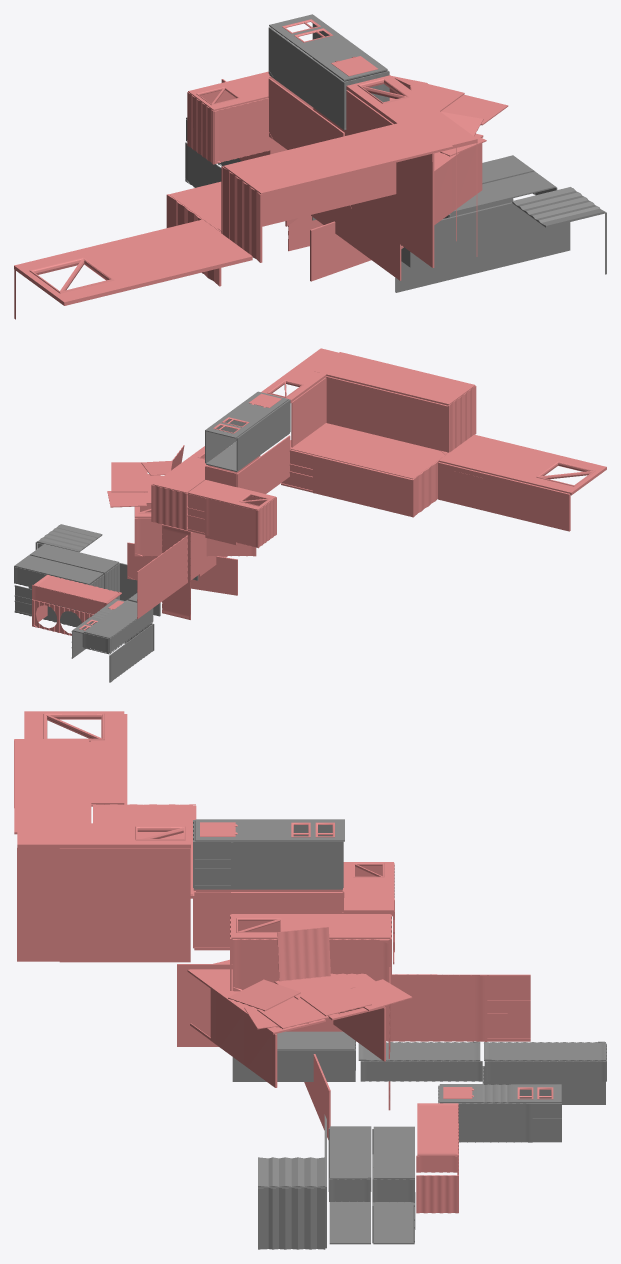
The model's file is S_Envi_Umeda_Prop_Container_07G.gltf.
3 renders of one model, top to bottom at view 1: azimuth 30°, elevation 25°; view 2: azimuth 150°, elevation 25°; view 3: azimuth 270°, elevation 25°, orthographic. The views are drawn at different scales.
Visible parts, largest first — view 1: S_Envi_Umeda_Prop_Container_07G; view 2: S_Envi_Umeda_Prop_Container_07G; view 3: S_Envi_Umeda_Prop_Container_07G.
Boxes of the visible parts, left/top/right/bottom form: S_Envi_Umeda_Prop_Container_07G: left=14, top=14, right=606, bottom=319; S_Envi_Umeda_Prop_Container_07G: left=14, top=348, right=606, bottom=682; S_Envi_Umeda_Prop_Container_07G: left=14, top=711, right=606, bottom=1249.
Size of the model in its own units: 49.56 by 20.92 by 38.75.
